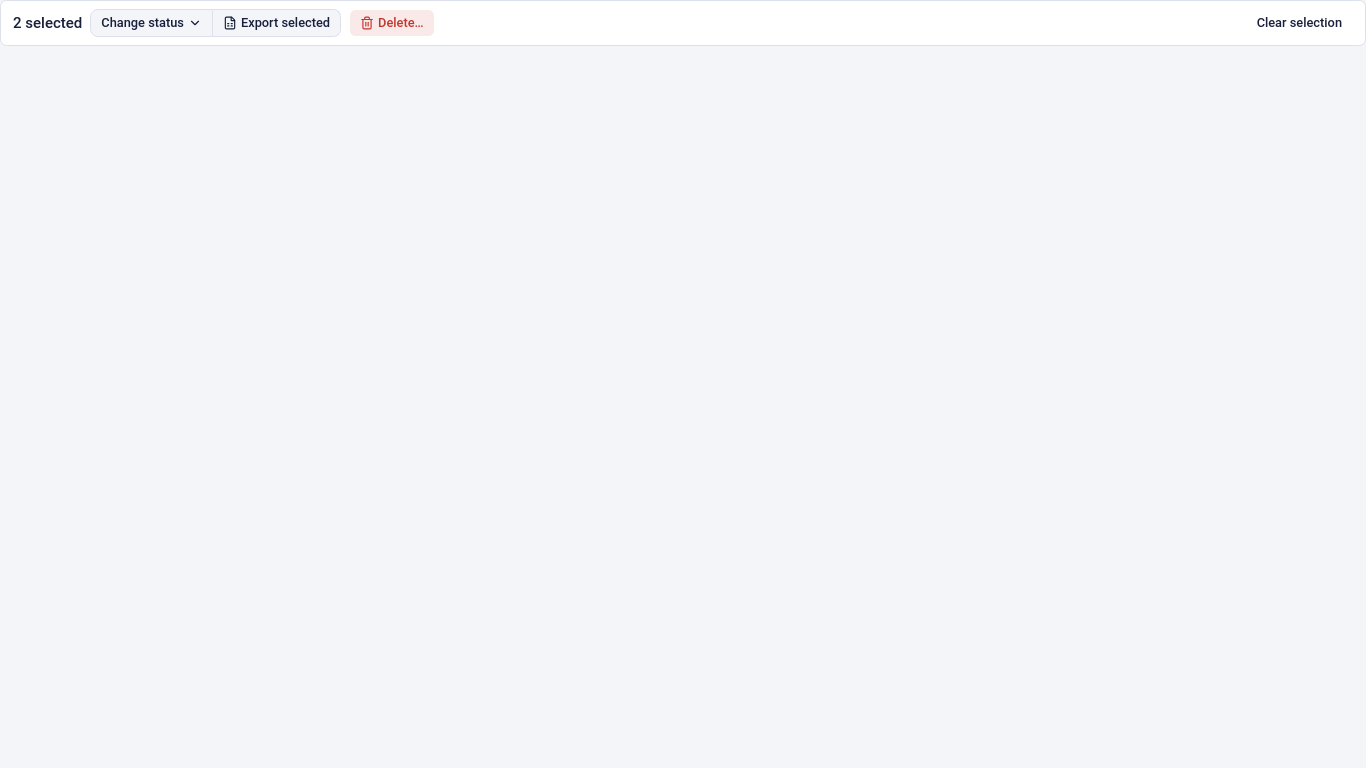
Test: BulkBar delete › does nothing on Cancel or Esc
This screenshot has width=1366, height=768.
Click the button "Delete…".
click(392, 23)  # box [349,9,435,37]
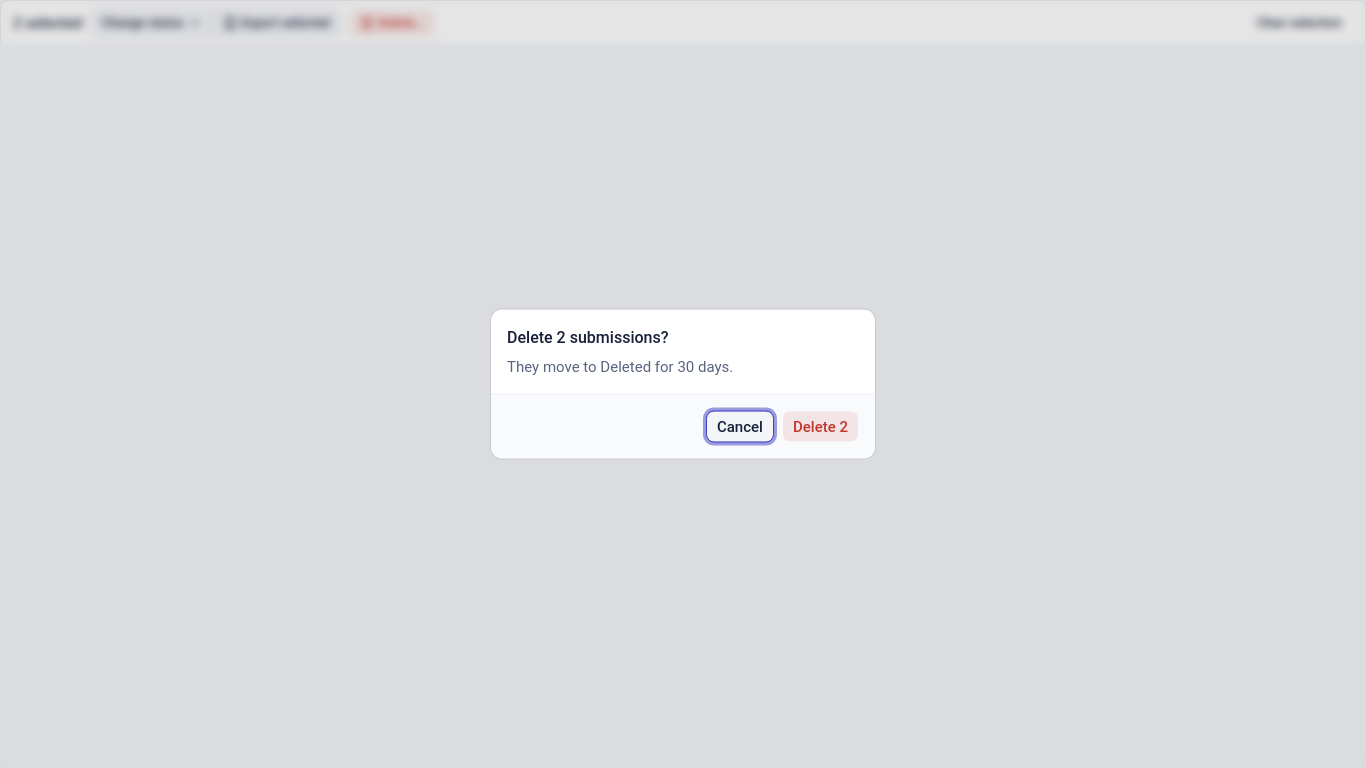
Now the button "Cancel" is shown
Click the button "Cancel".
click(740, 426)  # box [706,410,774,442]
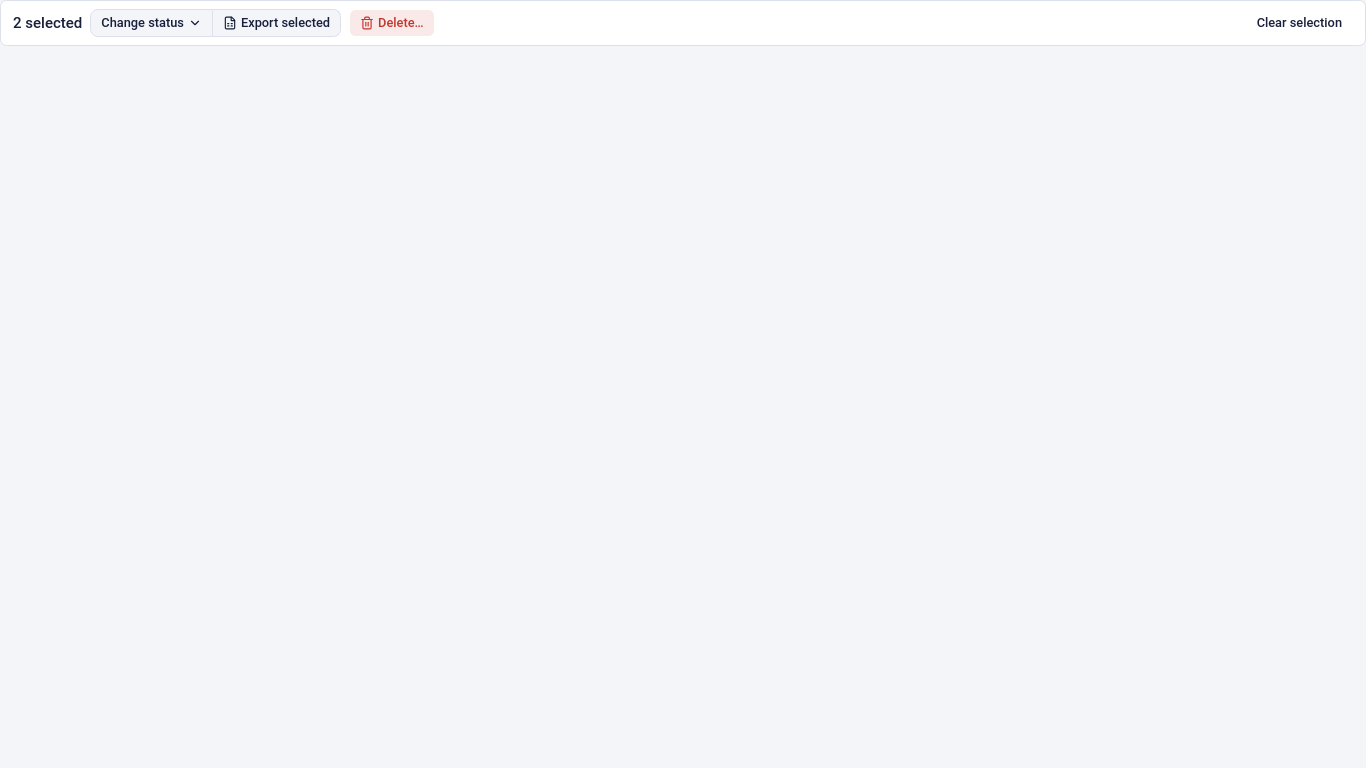
Now the dialog is gone
Click the button "Delete…".
click(392, 23)  # box [349,9,435,37]
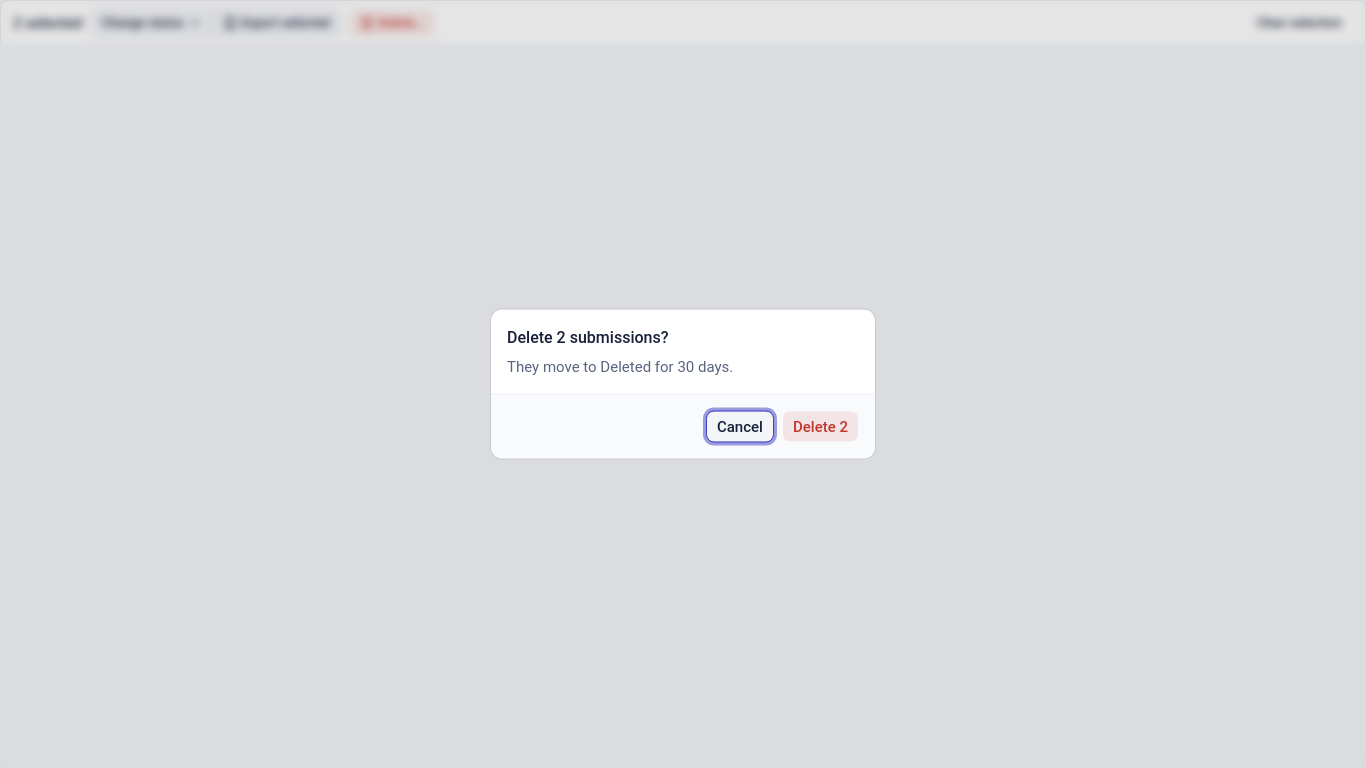
Press Escape in the button "Cancel", box [706,410,774,442]
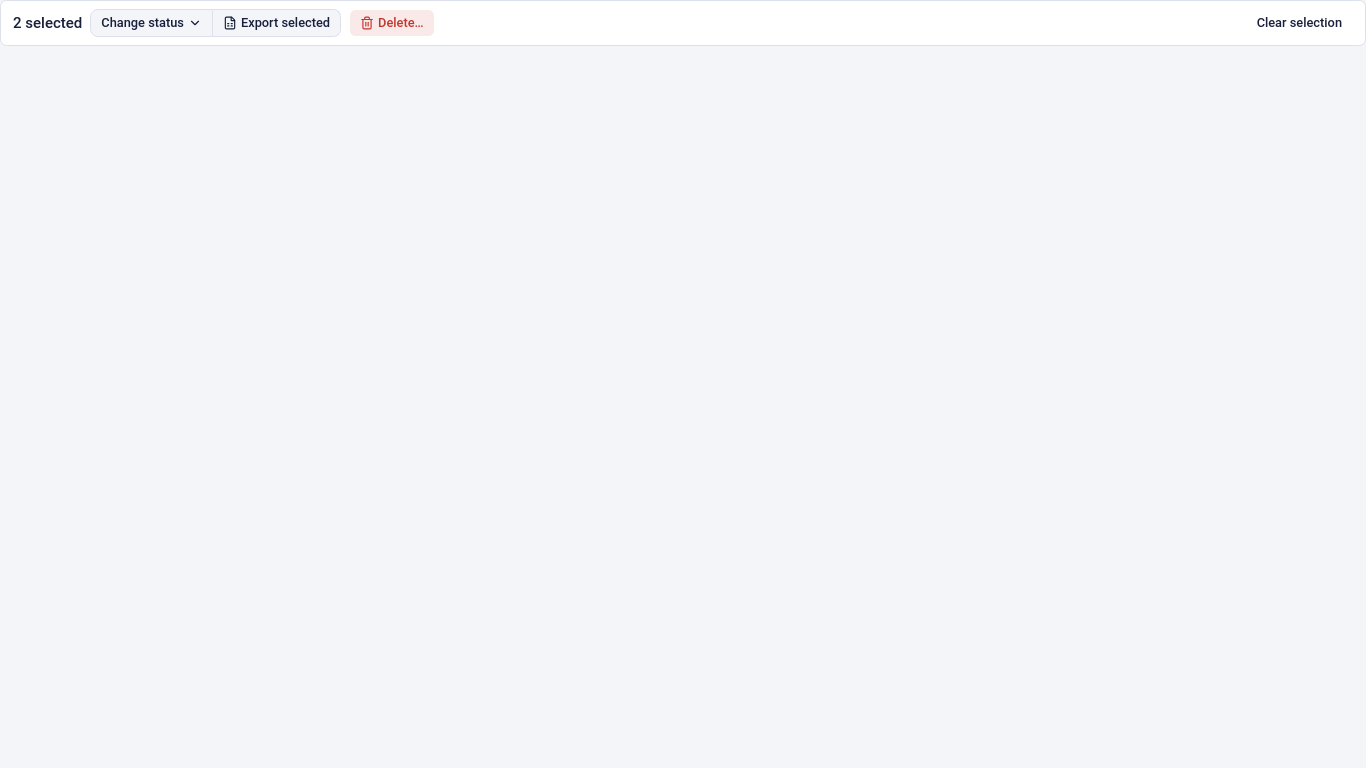
Now the dialog is gone
